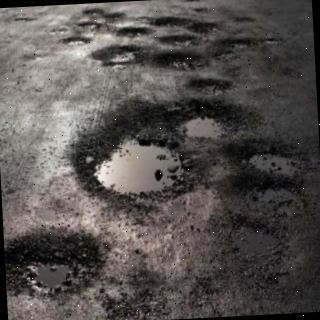pothole: (4, 228, 103, 297), (93, 140, 183, 196), (246, 149, 307, 183), (90, 45, 143, 68), (181, 118, 229, 140), (152, 54, 211, 70), (188, 79, 233, 98)
